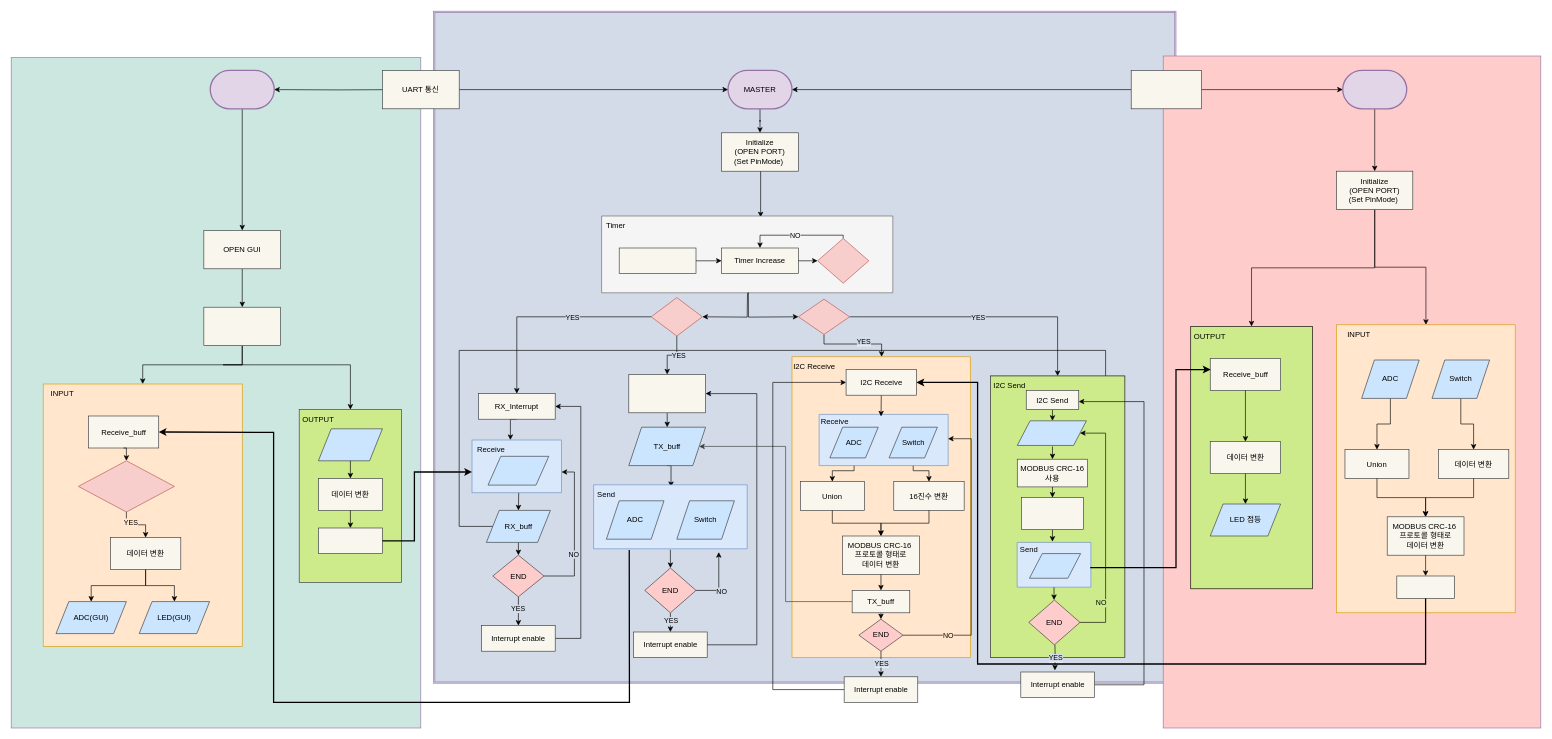
Some shapes in this 1552 by 739 pixel diagram are drawn without their labels. Here are the shapes that lost their labels. From the top down, the centre of each, then its label:
At point (242, 89): "PC".
At point (1166, 89): "I2C 통신".
At point (1374, 89): "SLAVE".
At point (657, 260): "Timer Interrupt".
At point (843, 260): "Timer Overflow?".
At point (242, 326): "Initialize, OPEN PORT".
At point (676, 316): "flag == 1".
At point (824, 316): "flag == 0".
At point (667, 393): "TX_Interrupt".
At point (350, 444): "Button(GUI)".
At point (1051, 432): "I2C Send_buff".
At point (126, 486): "MODBUS protocol 확인".
At point (518, 470): "Button".
At point (1052, 513): "Data 10진수 변환".
At point (350, 540): "Send_buff".
At point (1055, 565): "LED".
At point (1425, 586): "I2c_buff".
